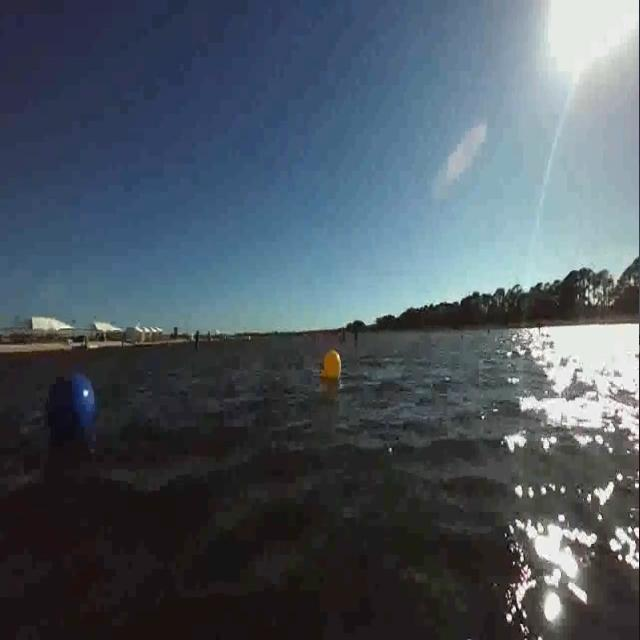blue-buoy: (45, 372, 97, 438)
yellow-buoy: (319, 348, 342, 380)
